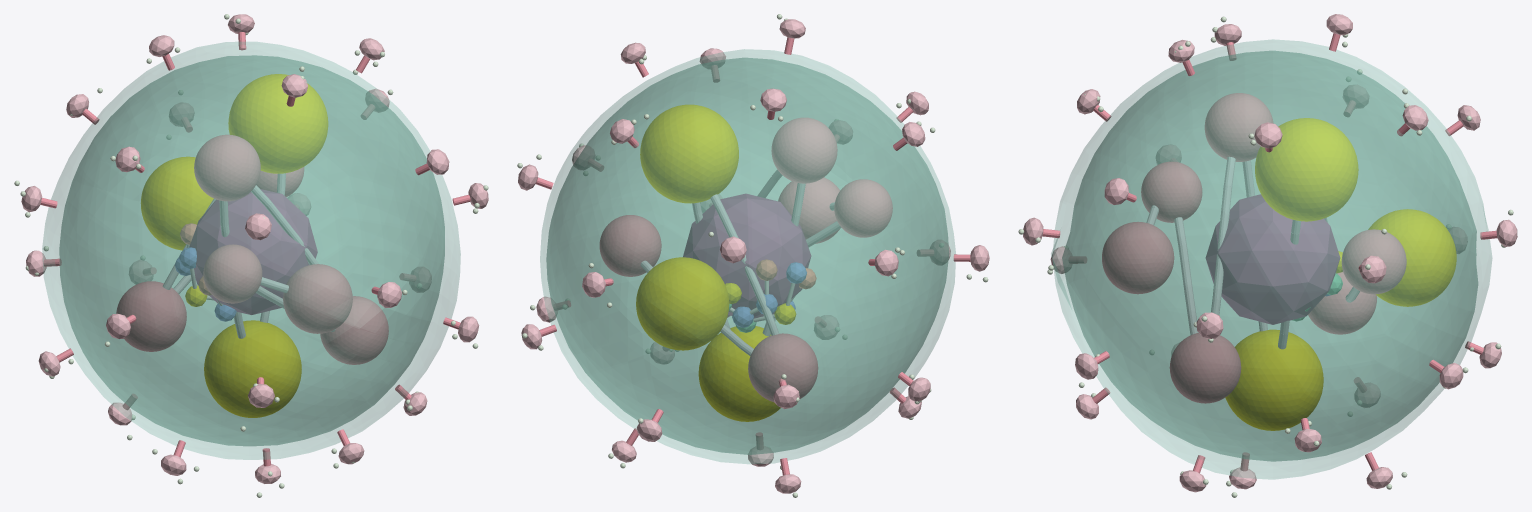
File: mutante_virus_ficticio_a_8280297.glb
The picture shows the model from 3 angles, left to right: view 1: azimuth 30°, elevation 25°; view 2: azimuth 150°, elevation 25°; view 3: azimuth 270°, elevation 25°; orthographic projection. The views are drawn at different scales.
Visible parts, largest first — view 1: geometry_0, geometry_1, geometry_101, geometry_100, geometry_2, geometry_104, geometry_96, geometry_102, geometry_99, geometry_98, geometry_97, geometry_103 (+24 smaller); view 2: geometry_0, geometry_1, geometry_2, geometry_101, geometry_104, geometry_100, geometry_99, geometry_102, geometry_103, geometry_97, geometry_96, geometry_212 (+20 smaller); view 3: geometry_0, geometry_1, geometry_2, geometry_101, geometry_100, geometry_104, geometry_96, geometry_98, geometry_99, geometry_97, geometry_103, geometry_102 (+23 smaller).
Part boxes in pixels (left/top/right/bottom): geometry_0: left=42, top=42, right=460, bottom=459; geometry_1: left=59, top=55, right=444, bottom=446; geometry_101: left=228, top=74, right=328, bottom=173; geometry_100: left=204, top=320, right=301, bottom=417; geometry_2: left=189, top=189, right=317, bottom=314; geometry_104: left=141, top=156, right=213, bottom=250; geometry_96: left=283, top=264, right=352, bottom=333; geometry_102: left=116, top=281, right=186, bottom=351; geometry_99: left=194, top=134, right=260, bottom=201; geometry_98: left=320, top=296, right=388, bottom=364; geometry_97: left=203, top=244, right=262, bottom=303; geometry_103: left=256, top=167, right=304, bottom=196; geometry_0: left=540, top=49, right=955, bottom=463; geometry_1: left=546, top=57, right=949, bottom=454; geometry_2: left=683, top=193, right=811, bottom=318; geometry_101: left=640, top=104, right=738, bottom=203; geometry_104: left=636, top=257, right=729, bottom=350; geometry_100: left=698, top=326, right=780, bottom=421; geometry_99: left=771, top=117, right=837, bottom=183; geometry_102: left=748, top=333, right=818, bottom=401; geometry_103: left=599, top=215, right=661, bottom=276; geometry_97: left=834, top=179, right=892, bottom=237; geometry_96: left=778, top=177, right=839, bottom=243; geometry_212: left=760, top=88, right=786, bottom=119; geometry_0: left=1051, top=39, right=1492, bottom=479; geometry_1: left=1062, top=50, right=1478, bottom=461; geometry_2: left=1205, top=194, right=1340, bottom=324; geometry_101: left=1255, top=118, right=1358, bottom=221; geometry_100: left=1225, top=329, right=1323, bottom=430; geometry_104: left=1368, top=209, right=1456, bottom=306; geometry_96: left=1102, top=222, right=1174, bottom=294; geometry_98: left=1169, top=333, right=1241, bottom=403; geometry_99: left=1204, top=93, right=1273, bottom=161; geometry_97: left=1141, top=161, right=1202, bottom=222; geometry_103: left=1341, top=229, right=1406, bottom=294; geometry_102: left=1308, top=272, right=1376, bottom=334.
Bounding box in the file's own units: 13.28 × 13.89 × 13.76.
